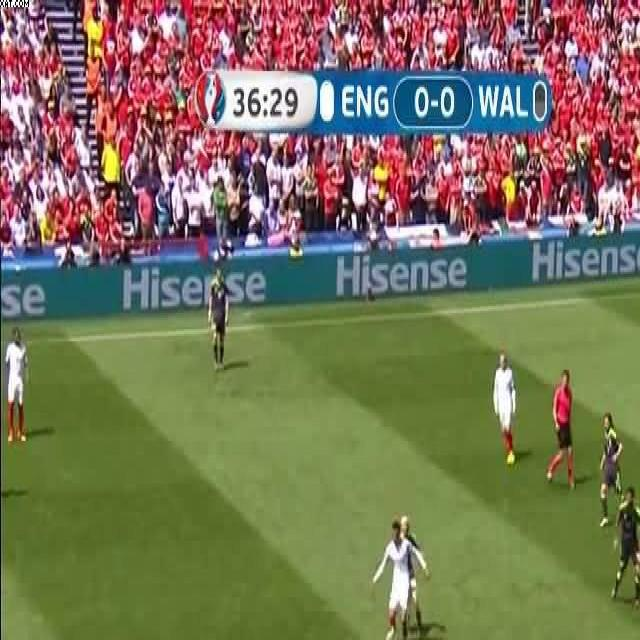player-white: (371, 519, 427, 640), (395, 513, 424, 640), (609, 488, 640, 604), (598, 414, 630, 526), (548, 368, 576, 486), (491, 351, 517, 468), (5, 330, 29, 442), (208, 266, 230, 373)
